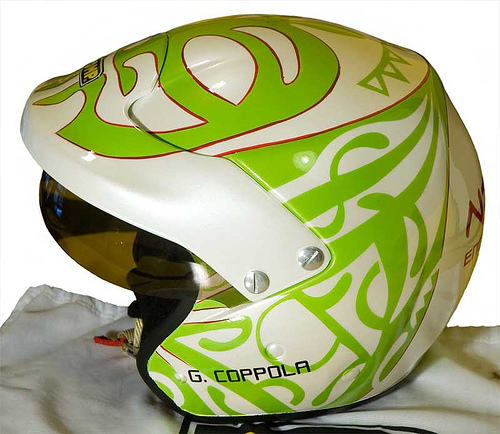helmet: (24, 30, 484, 396)
